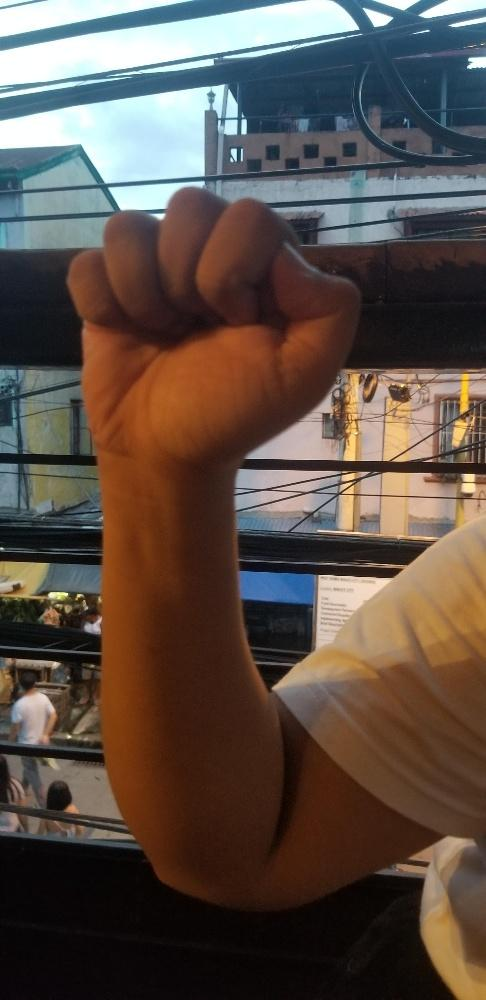a: (59, 183, 368, 467)
